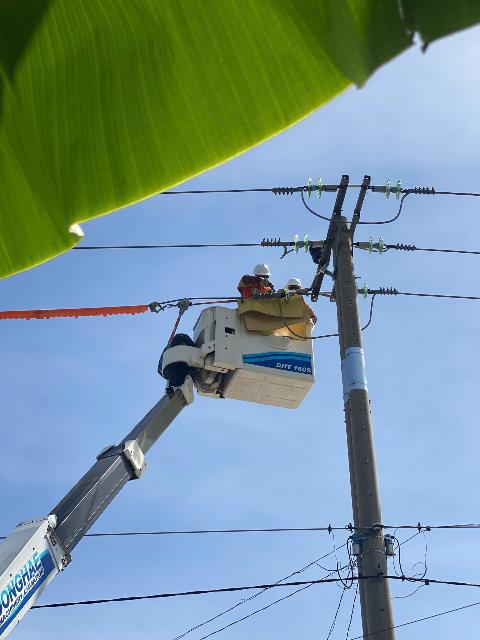gloves: (259, 276, 277, 293)
helmet: (227, 253, 278, 280), (285, 277, 308, 295)
